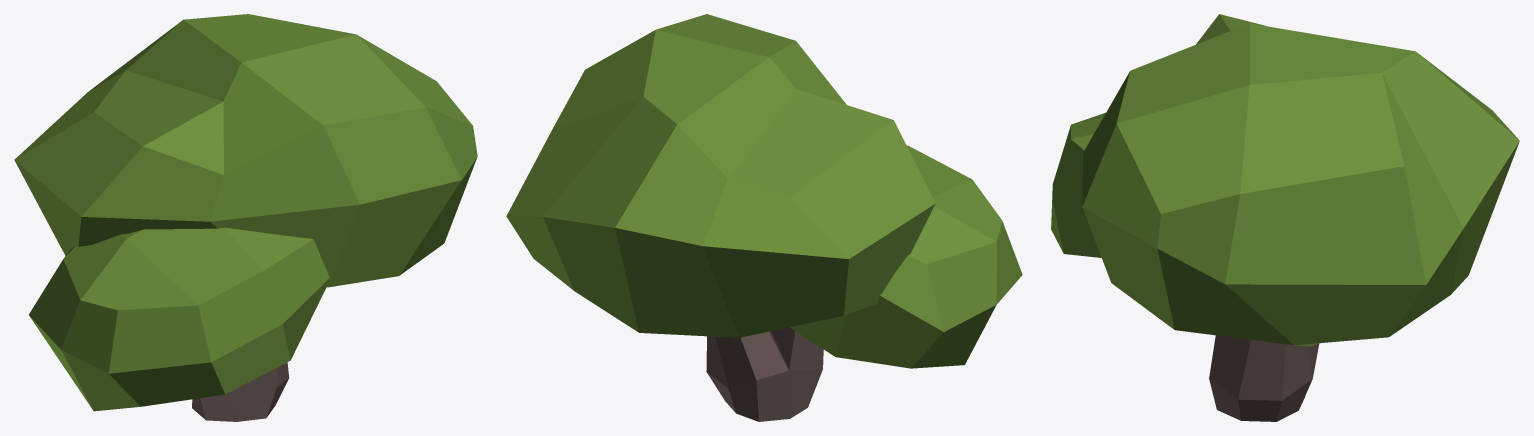
Rendered from low_tree1.fbx.
3 views of the same model, side by side, from view 1: azimuth 30°, elevation 25°; view 2: azimuth 150°, elevation 25°; view 3: azimuth 270°, elevation 25° (orthographic). The views are drawn at different scales.
Parts seen in each view (by area): view 1: polySurface1, pCube10; view 2: polySurface1, pCube10; view 3: polySurface1, pCube10.
Part boxes in pixels (<box>): polySurface1: <box>14,14,477,411</box>; pCube10: <box>192,362,289,421</box>; polySurface1: <box>506,14,1022,368</box>; pCube10: <box>706,327,823,421</box>; polySurface1: <box>1051,14,1519,346</box>; pCube10: <box>1209,335,1319,421</box>.
Bounding box in the file's own units: 8.14 × 6.59 × 7.34.
